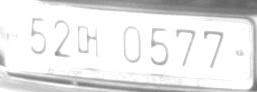0: (122, 25, 141, 62)
2: (54, 19, 69, 57)
5: (150, 27, 169, 66), (30, 17, 47, 54)
7: (175, 28, 196, 67), (203, 30, 223, 68)
머: (77, 24, 98, 56)
